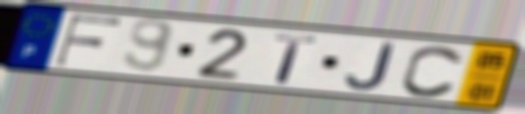2: (196, 27, 253, 80)
9: (122, 17, 178, 78)
C: (399, 43, 468, 100)
F: (51, 13, 126, 68)
J: (343, 41, 398, 92)
T: (271, 32, 321, 86)
